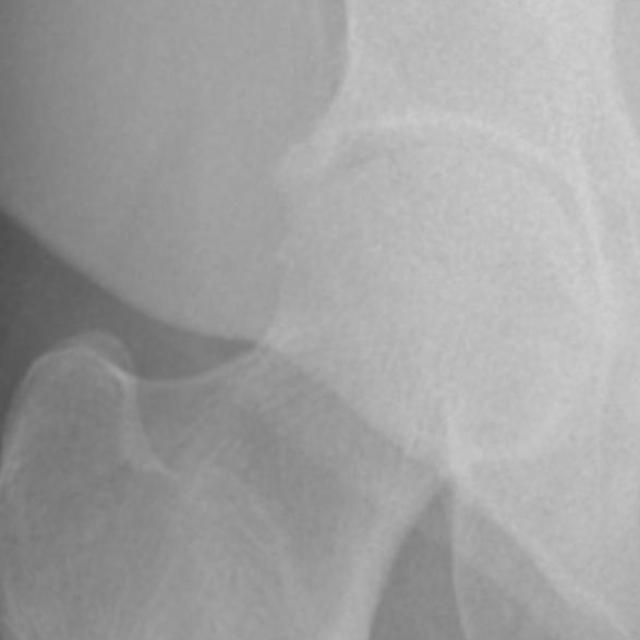Fitted_femural_head: (333, 148, 432, 333)
